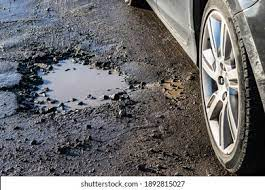potholes: (19, 50, 128, 113)
